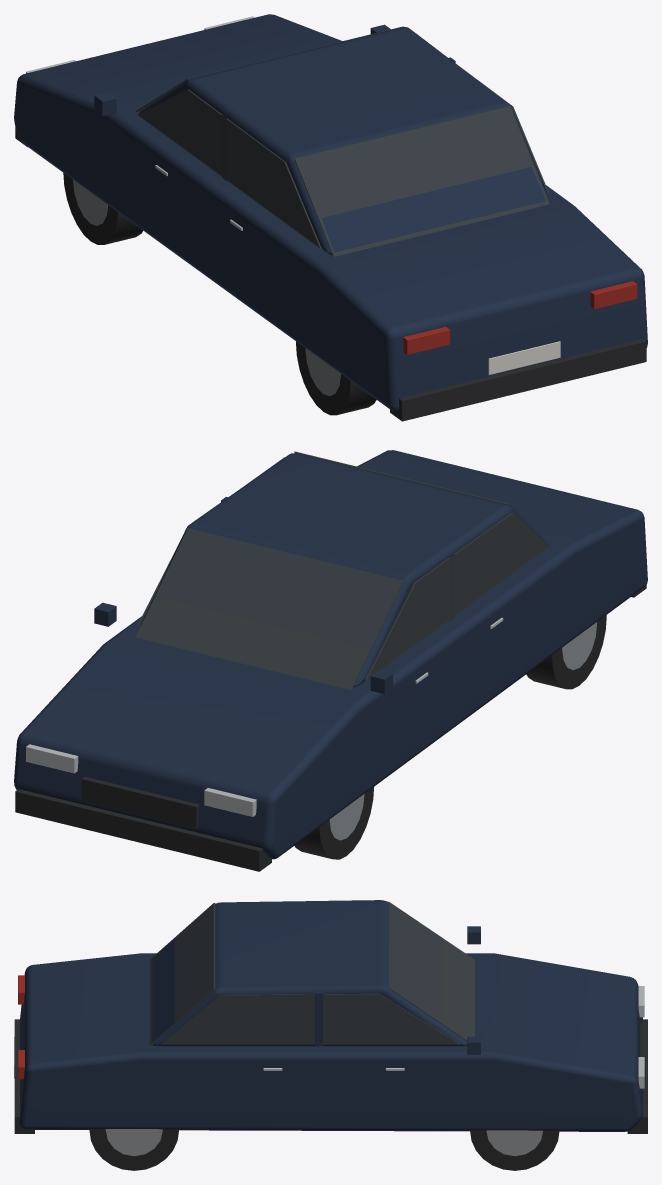
The model's file is veh_car_sedan_navy.glb.
3 renders of one model, top to bottom at view 1: azimuth 30°, elevation 25°; view 2: azimuth 150°, elevation 25°; view 3: azimuth 270°, elevation 25°, orthographic. The views are drawn at different scales.
Parts seen in each view (by area): view 1: Car; view 2: Car; view 3: Car.
Boxes of the visible parts, x1=… form: Car: x1=14, y1=14, x2=647, y2=421; Car: x1=14, y1=450, x2=647, y2=871; Car: x1=14, y1=900, x2=647, y2=1170.
Size of what is drawn, in the model's own units: 2.02 by 1.44 by 4.66.
